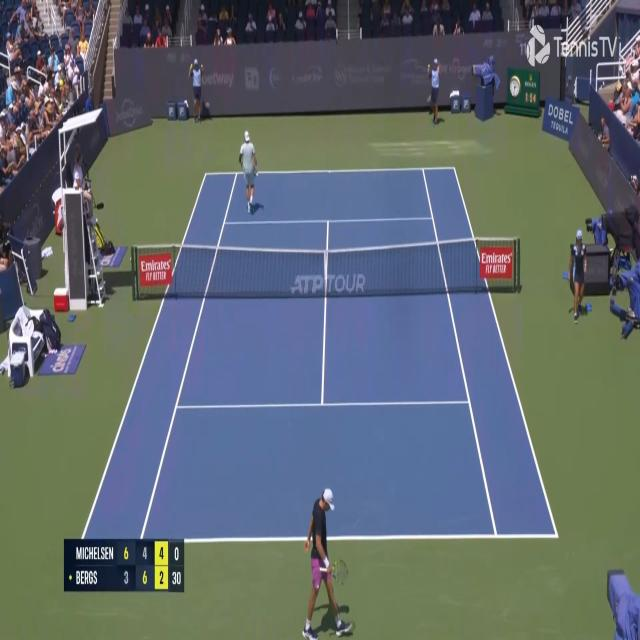tennis-player: (301, 482, 358, 640), (238, 128, 260, 217)
